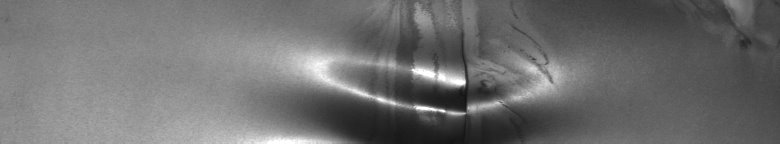ke: (284, 4, 558, 136)
